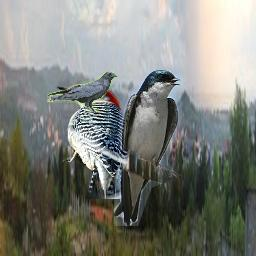Crow: (47, 71, 118, 113)
Swallow: (114, 70, 182, 226)
Woodpecker: (52, 80, 132, 199)
